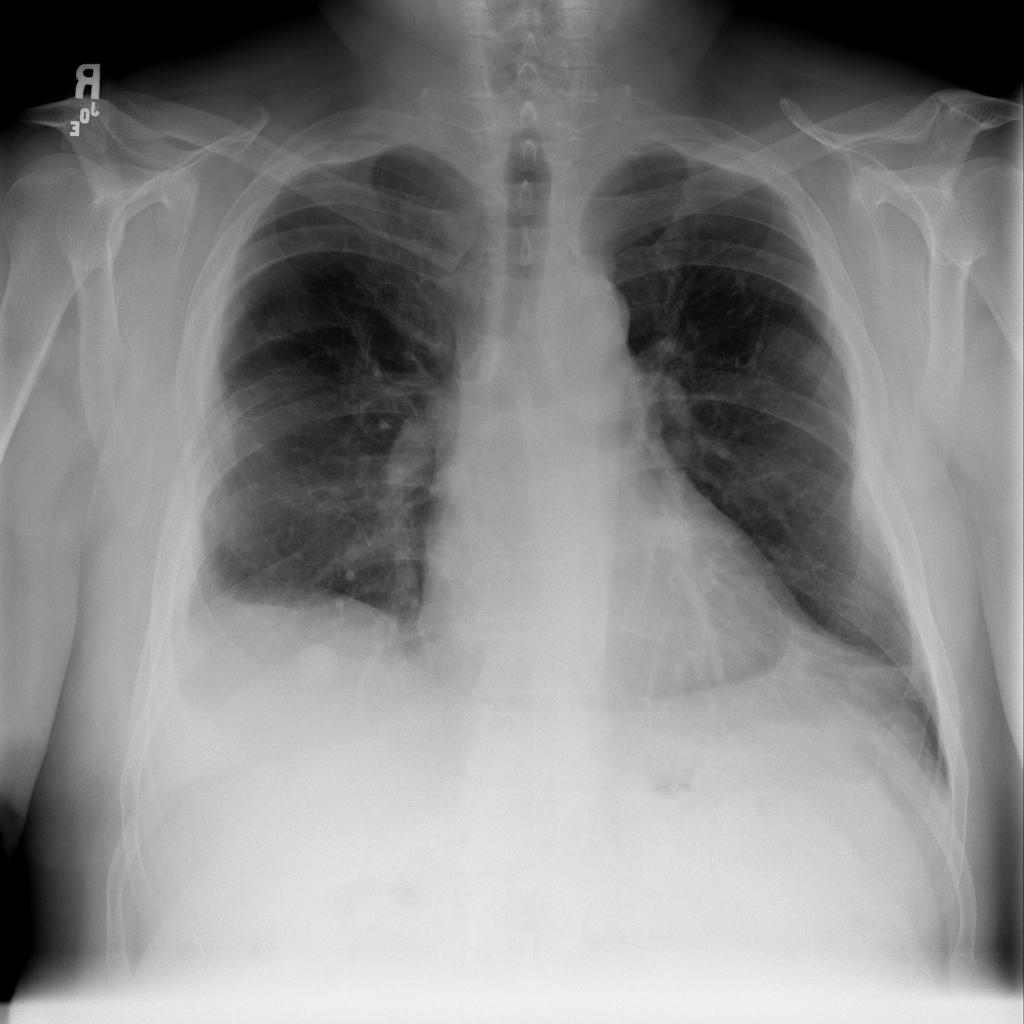nodule: (282, 629, 356, 701)
